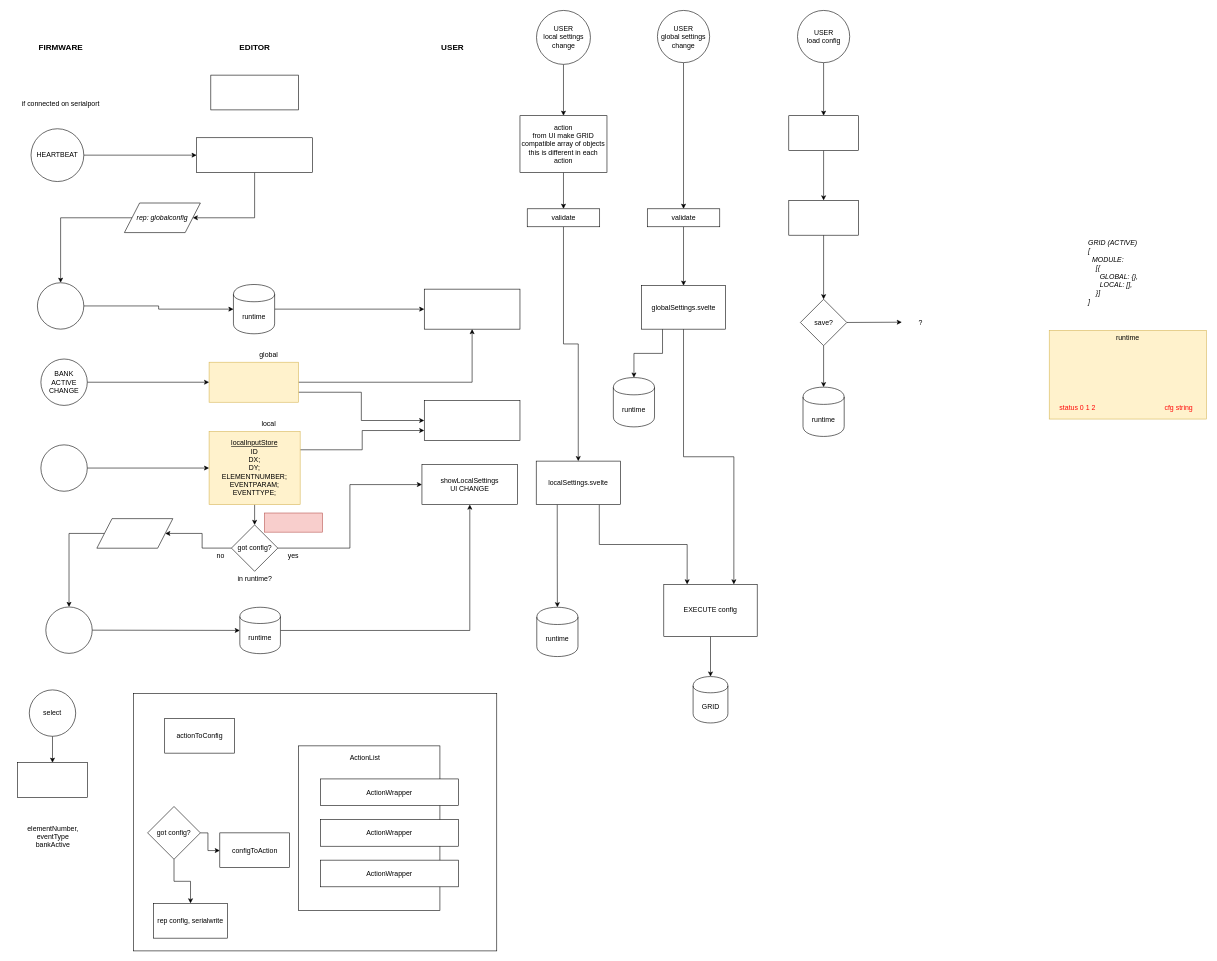
Image size: 1217x961. Some labels were removed from this diagram. Here are the shapes that lost their labels. From the top down, the box of each, then its label:
(210, 75, 298, 110): Serial Port Discovery
(788, 115, 858, 151): load from file
(196, 137, 313, 173): createGridModule updateGridUsedAndAlive (if heartbeat)
(788, 200, 858, 235): profile load overlay
(37, 282, 84, 329): GLOBAL SETTINGS REPORT
(424, 289, 520, 329): showGlobalSettings UI CHANGE
(209, 362, 298, 402): globalInputStore BANKACTIVE;
(1049, 330, 1206, 419): update GRID ACTIVE (config) store modules: Array JSON for connected modules
(424, 400, 520, 441): render Modul UI
(40, 444, 87, 491): EVENT CHANGE
(96, 518, 173, 548): rep: localconfig
(264, 512, 322, 532): localActions!
(45, 606, 92, 653): LOCAL SETTINGS REPORT
(17, 762, 87, 798): inputStore
(133, 693, 497, 951): LocalActions
